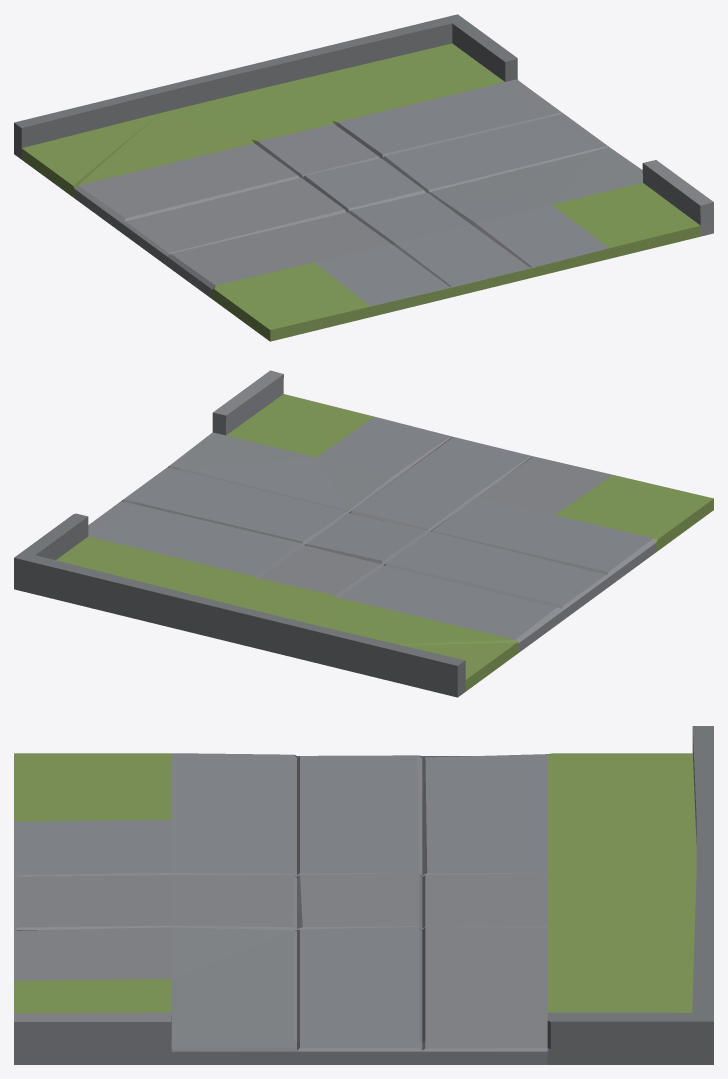
Rendered from Road_029-col.glb.
3 renders of one model, top to bottom at view 1: azimuth 30°, elevation 25°; view 2: azimuth 150°, elevation 25°; view 3: azimuth 270°, elevation 25°, orthographic. The views are drawn at different scales.
Parts seen in each view (by area): view 1: Sidewalk_08_A-col; view 2: Sidewalk_08_A-col; view 3: Sidewalk_08_A-col.
Boxes of the visible parts, <box> form: Sidewalk_08_A-col: <box>14,14,713,341</box>; Sidewalk_08_A-col: <box>14,370,713,697</box>; Sidewalk_08_A-col: <box>14,726,713,1064</box>.
Size of the model in its own units: 2 by 0.1363 by 2.
Materials: 1 (1 with a texture image).
